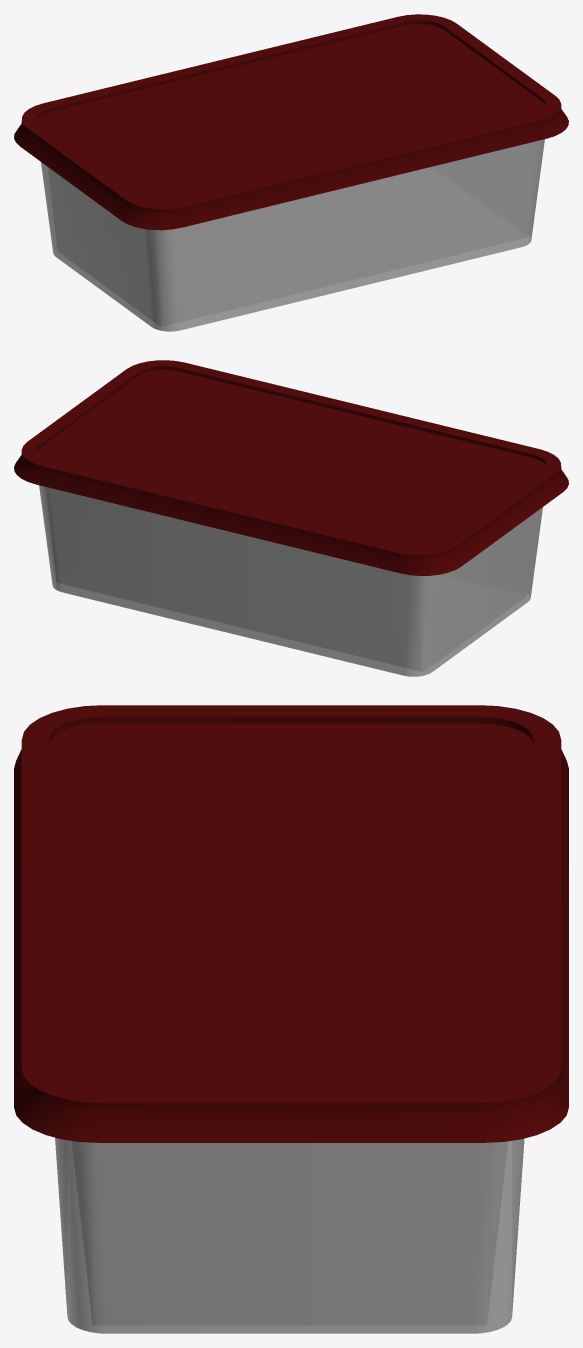
Rendered from Tupper 1.fbx.
The picture shows the model from 3 angles, top to bottom: view 1: azimuth 30°, elevation 25°; view 2: azimuth 150°, elevation 25°; view 3: azimuth 270°, elevation 25°; orthographic projection. The views are drawn at different scales.
Visible parts, largest first — view 1: tupper 1; view 2: tupper 1; view 3: tupper 1.
Part boxes in pixels (left/top/right/bottom): tupper 1: left=14, top=14, right=568, bottom=331; tupper 1: left=14, top=360, right=568, bottom=676; tupper 1: left=14, top=705, right=568, bottom=1333.
Bounding box in the file's own units: 25.82 × 7.48 × 14.79.
